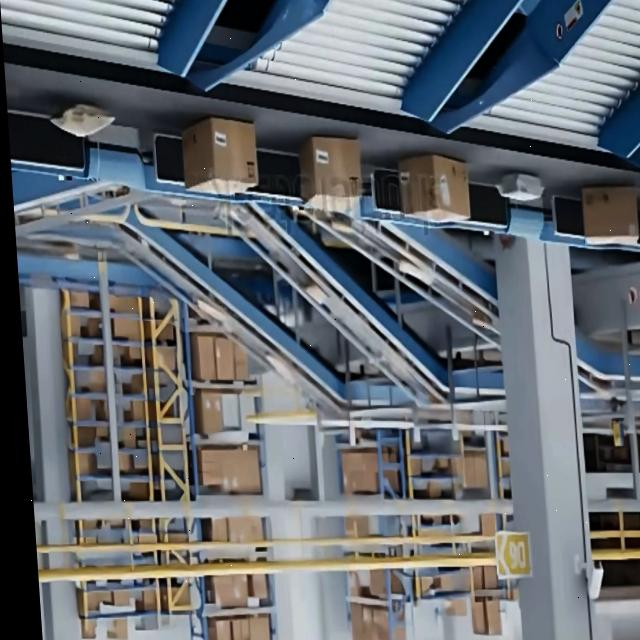product 1: (179, 116, 261, 196), (296, 136, 365, 213), (397, 154, 472, 224)
product 2: (495, 172, 546, 203)
